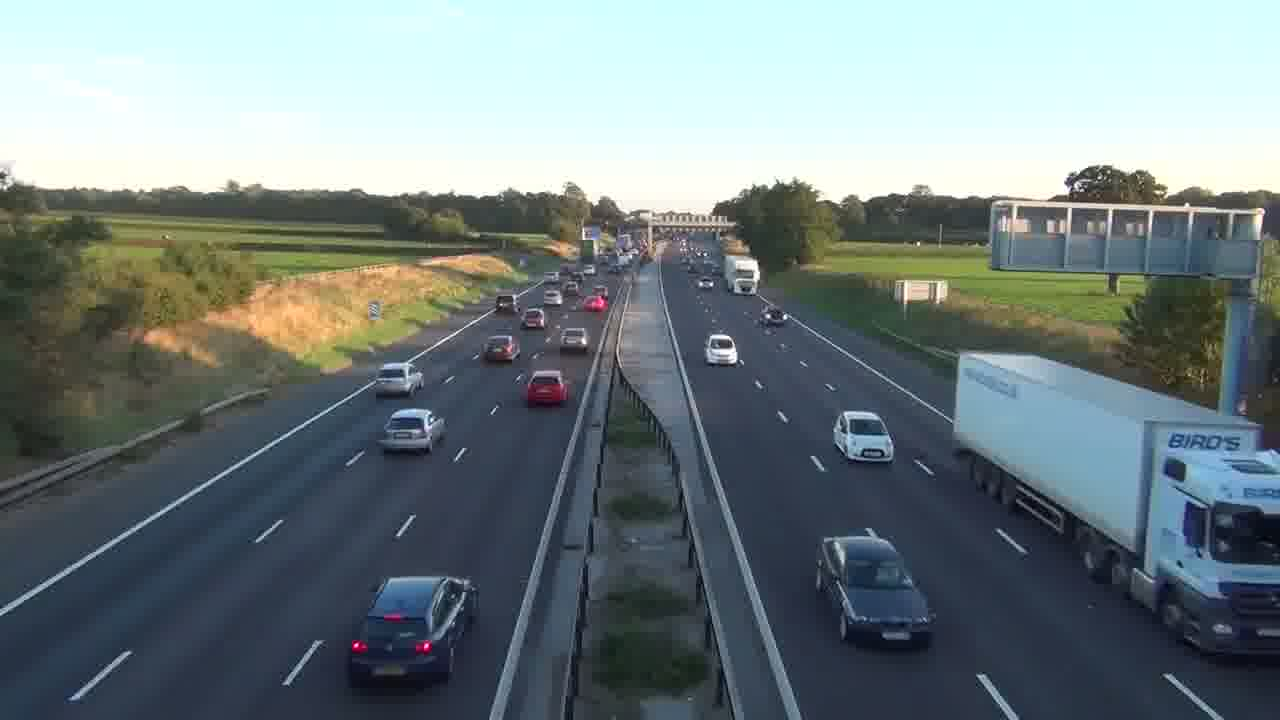car: (347, 574, 480, 688), (814, 528, 938, 649), (832, 409, 896, 466), (379, 407, 446, 454), (374, 362, 424, 398), (525, 371, 569, 406), (480, 332, 520, 363), (705, 333, 742, 366)
truck: (951, 351, 1280, 659), (814, 528, 938, 649), (725, 256, 760, 295)
